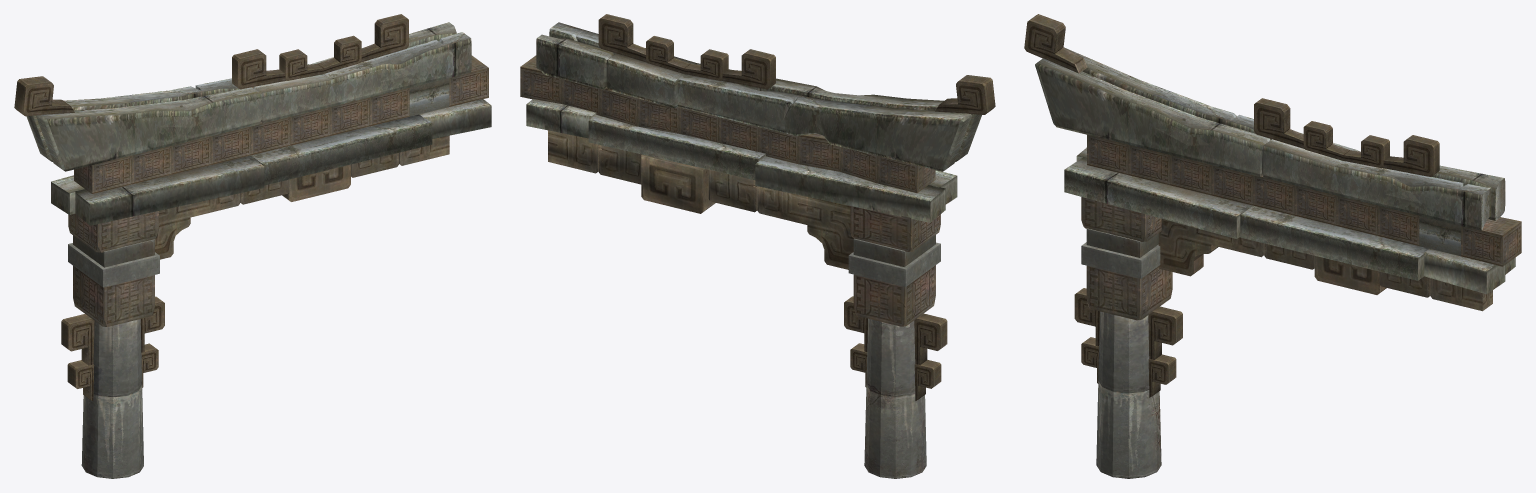
Rendered from bg_anh_gvalley_rf01_10_sm_old.FBX.
3 renders of one model, left to right at view 1: azimuth 30°, elevation 25°; view 2: azimuth 150°, elevation 25°; view 3: azimuth 330°, elevation 25°, orthographic. The views are drawn at different scales.
Visible parts, largest first — view 1: bg_anh_gvalley_rf01_10_sm_old; view 2: bg_anh_gvalley_rf01_10_sm_old; view 3: bg_anh_gvalley_rf01_10_sm_old.
Boxes of the visible parts, bbox=[...] form: bg_anh_gvalley_rf01_10_sm_old: bbox=[14, 14, 491, 478]; bg_anh_gvalley_rf01_10_sm_old: bbox=[520, 14, 995, 478]; bg_anh_gvalley_rf01_10_sm_old: bbox=[1024, 14, 1521, 478].
Bounding box in the file's own units: 400 × 336 × 65.28.
